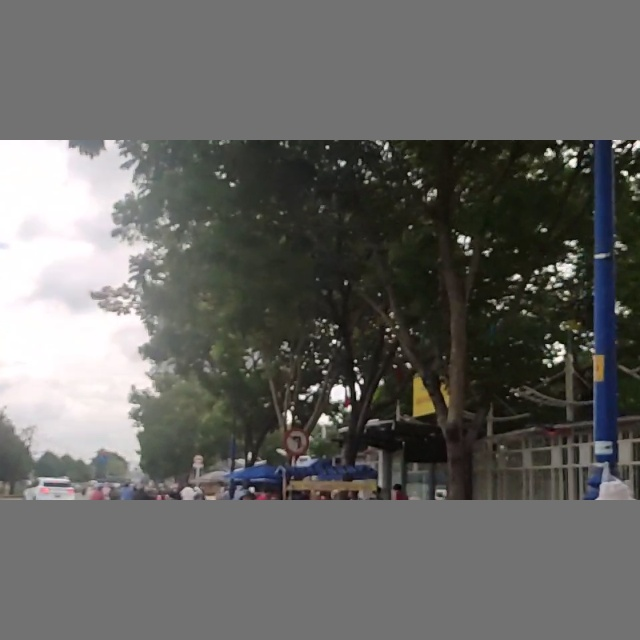P.123a: (284, 430, 308, 457)
